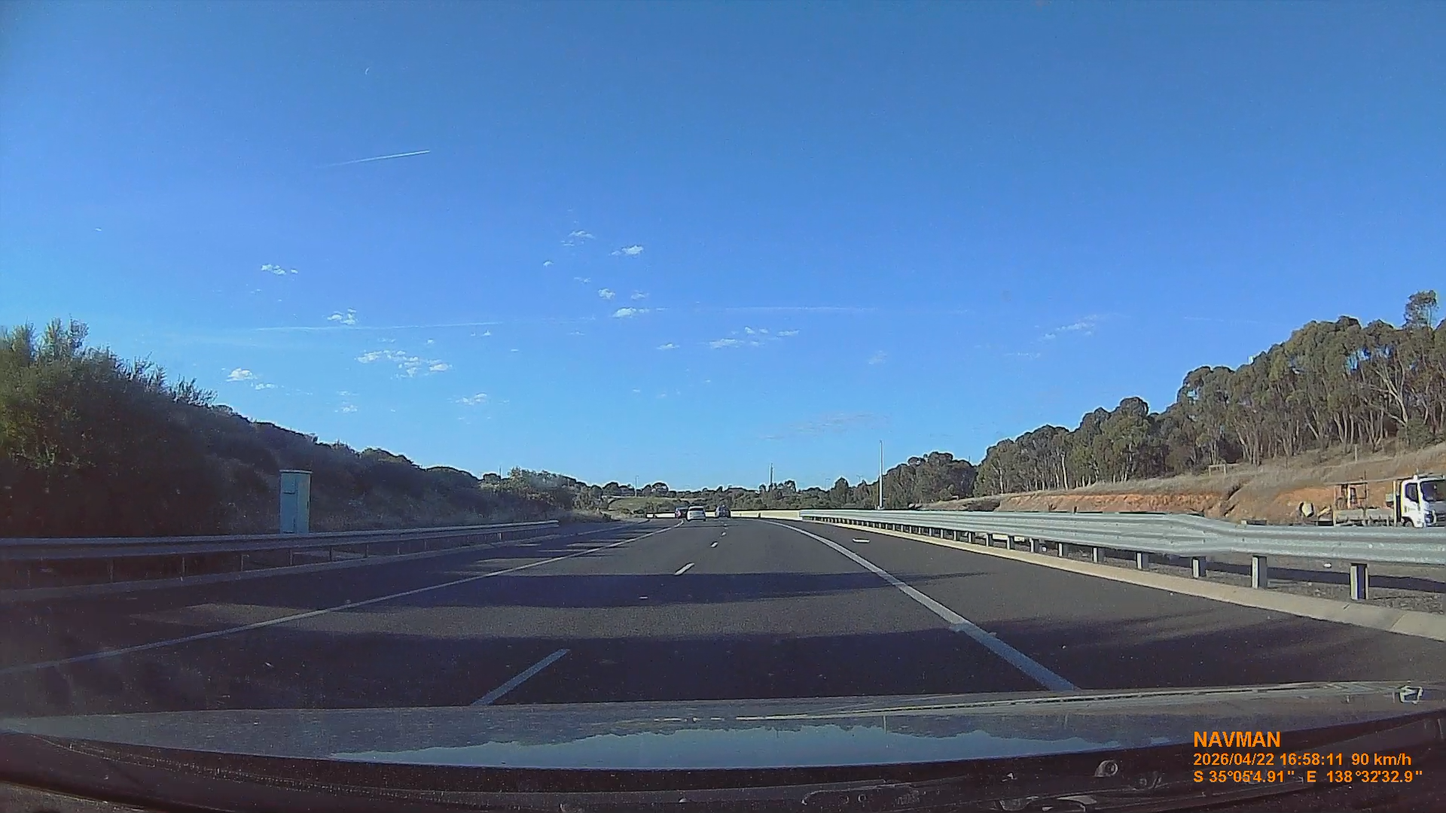road barriers: (801, 510, 1445, 612), (0, 522, 557, 598)
